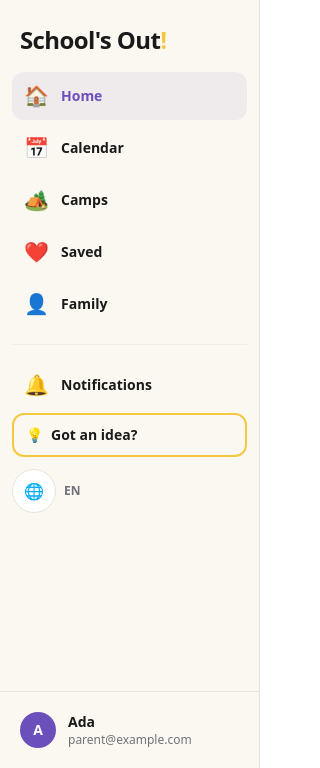
Test: app/SideNav › opens the user menu popover on avatar-block click
The image size is (320, 768).
Expected: the text "Log out" is not shown
Click the button "A Ada parent@example.com" at (130, 730), box [12,704,247,756]
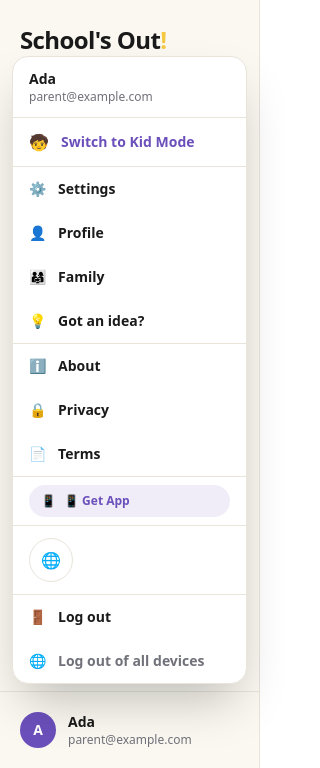
Now the text "Log out" is shown, box [58,607,111,627]
Now the text "About" is shown, box [58,356,100,376]
